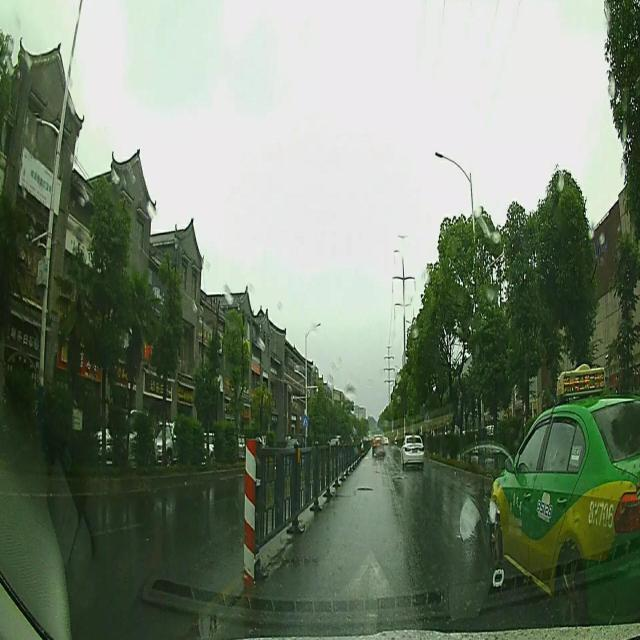car: (490, 370, 640, 622), (402, 436, 425, 471), (372, 434, 386, 457)
